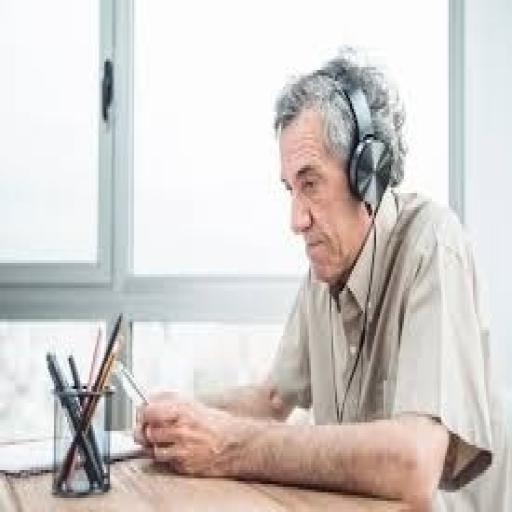listening_to_music: (132, 50, 508, 510)
